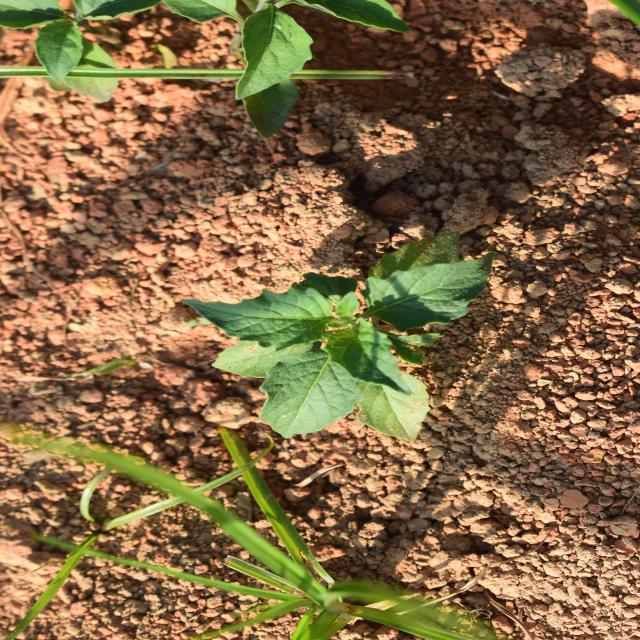Black_nightshade: (208, 201, 416, 503)
